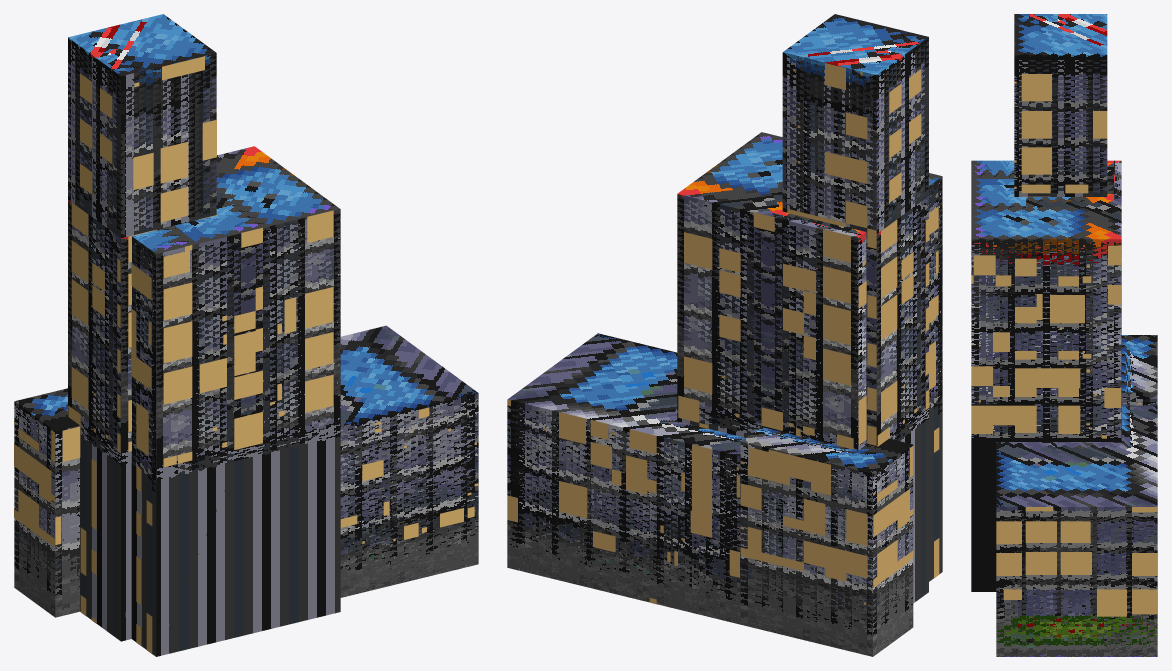
Rendered from dum_57_vysoky.glb.
3 renders of one model, left to right at view 1: azimuth 30°, elevation 25°; view 2: azimuth 150°, elevation 25°; view 3: azimuth 270°, elevation 25°, orthographic. The views are drawn at different scales.
Visible parts, largest first — view 1: object 1, noc; view 2: object 1, noc; view 3: object 1, noc.
Boxes of the visible parts, x1,y1,x2,y2 form: object 1: [14, 14, 478, 656]; noc: [14, 56, 478, 653]; object 1: [507, 14, 942, 656]; noc: [507, 63, 939, 604]; object 1: [971, 14, 1157, 656]; noc: [971, 74, 1157, 616].
Size of the model in its own units: 24.32 by 35.25 by 12.06.
1 material, 1 textured.
